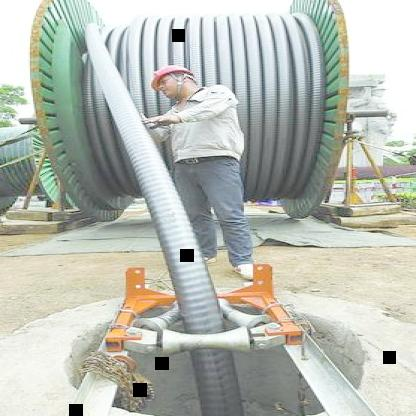helmet: (142, 59, 200, 101)
